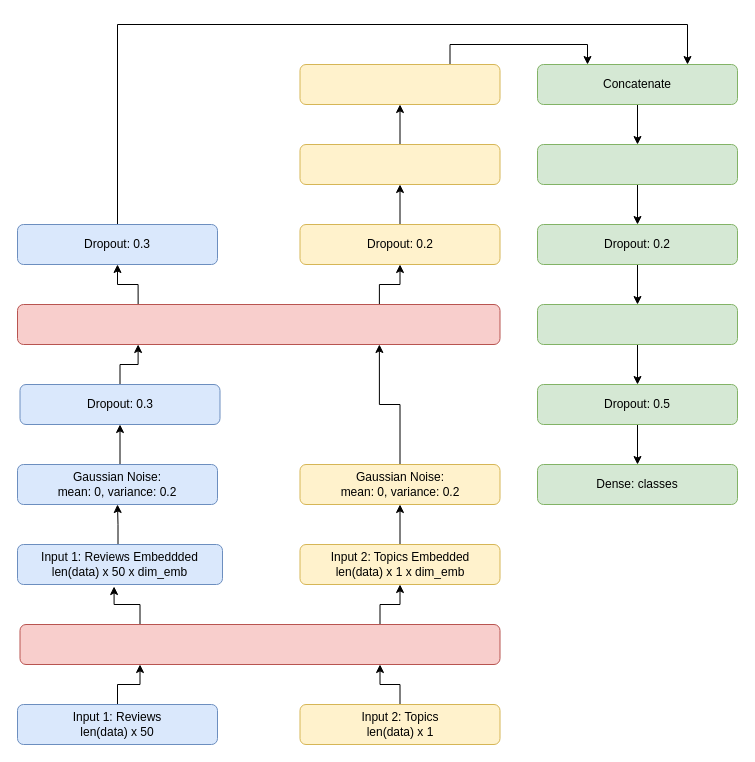
Some shapes in this 755 by 762 pixel diagram are drawn without their labels. Each missing label, with the centre of its shape:
Attention With Context: (637,164)
Dense: final_cells: (637,324)
Mean Over Time: (399,164)
Repeat Vector x 50: (399,84)
Shared Bidirectional LSTM: rnn_cells: (258,324)
Word2Vec Embedding: dim_emb: (259,644)
